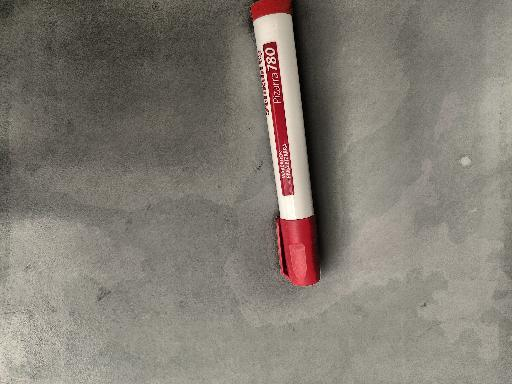marcador rojo: (251, 0, 320, 286)
